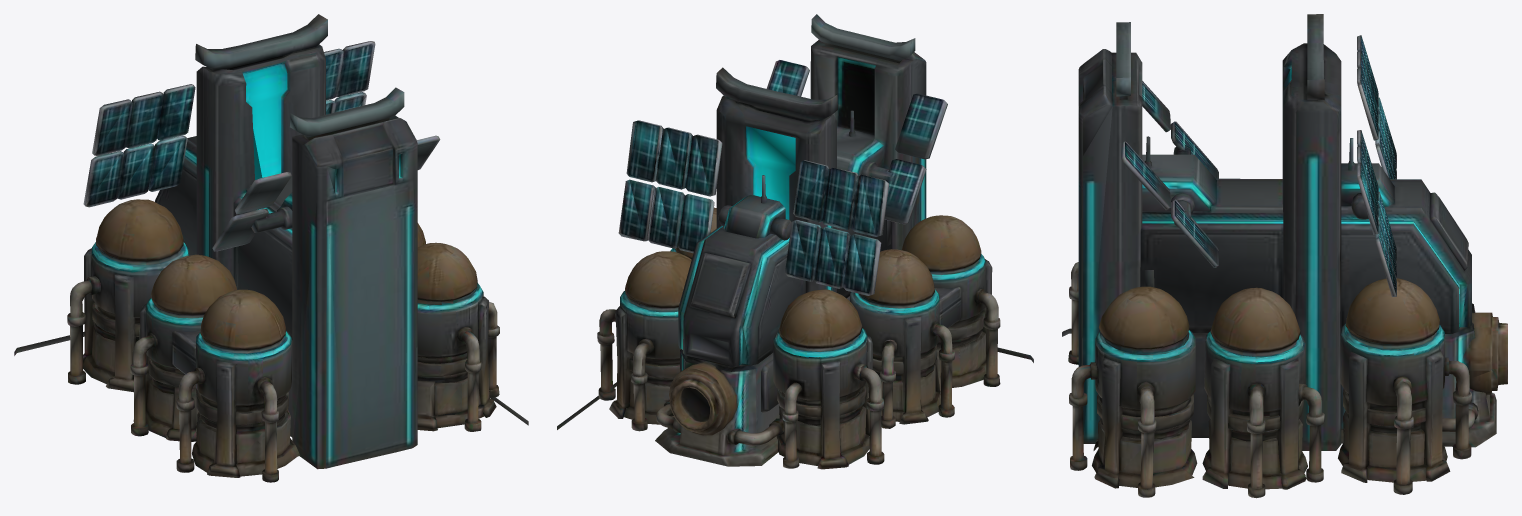
File: solar_biomass.glb
3 renders of one model, left to right at view 1: azimuth 30°, elevation 25°; view 2: azimuth 150°, elevation 25°; view 3: azimuth 270°, elevation 25°, orthographic. The views are drawn at different scales.
Visible parts, largest first — view 1: Body, Trim; view 2: Body, Trim; view 3: Body, Trim.
Part boxes in pixels (x1,y1,x2,y2): Body: [14, 14, 528, 482]; Trim: [85, 51, 482, 468]; Body: [557, 14, 1033, 469]; Trim: [620, 58, 984, 370]; Body: [1062, 14, 1507, 498]; Trim: [1083, 36, 1489, 434].
Size of the model in its own units: 12.44 by 12.93 by 13.91.
Materials: 2 (2 with a texture image).
